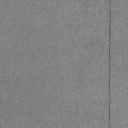surface scratch: (108, 4, 112, 96), (108, 98, 111, 123)
